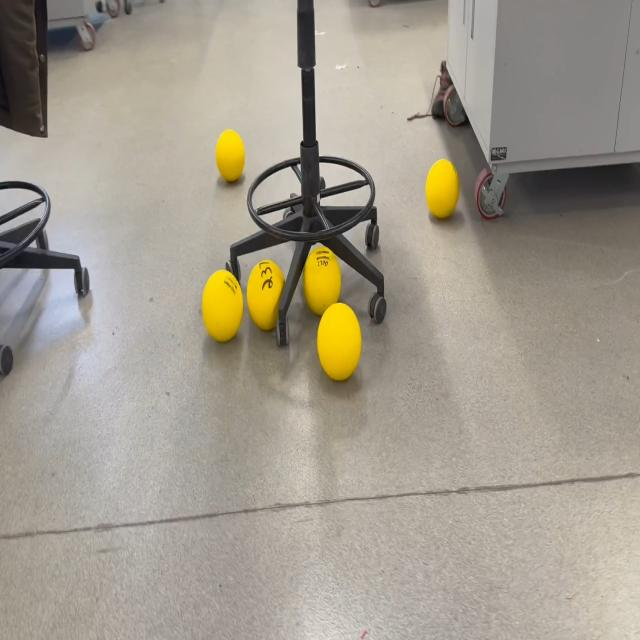Fuel: (317, 302, 362, 382), (202, 269, 243, 342), (247, 258, 287, 332), (302, 245, 341, 317), (425, 159, 460, 219), (215, 128, 245, 184)
